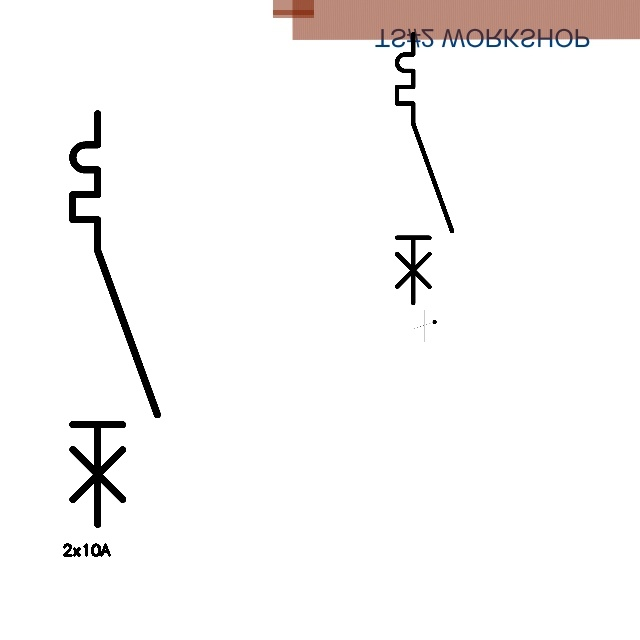interruptor_termomagnetico: (62, 103, 167, 535), (390, 27, 459, 310)
